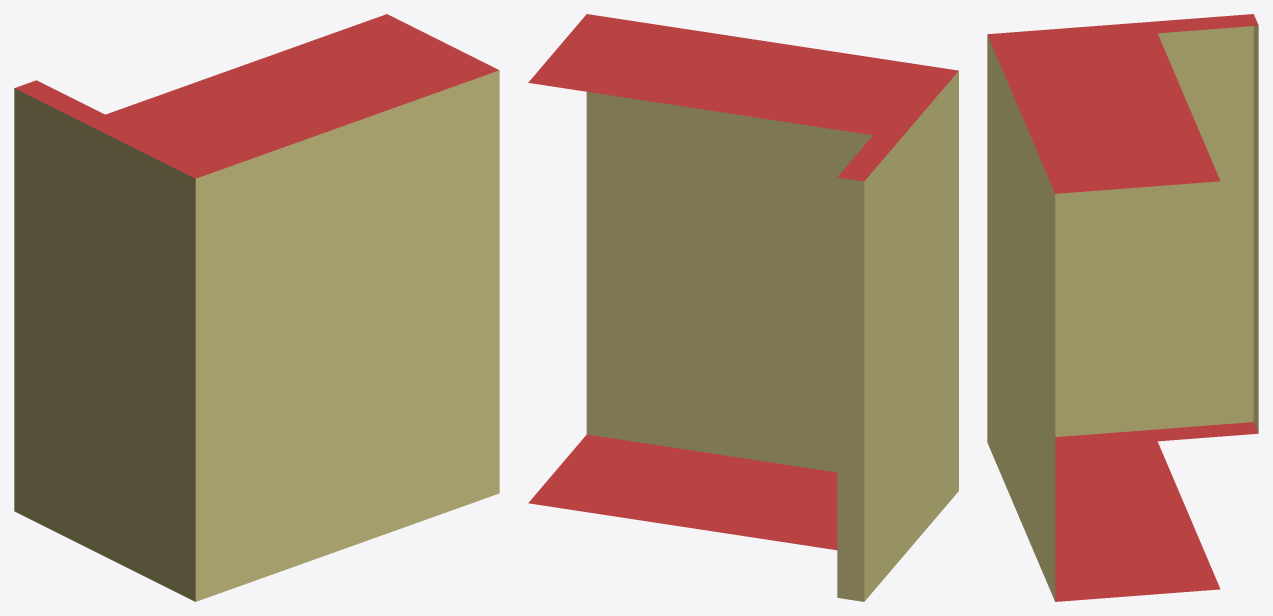
The picture shows the model from 3 angles, left to right: view 1: azimuth 30°, elevation 25°; view 2: azimuth 150°, elevation 25°; view 3: azimuth 270°, elevation 25°; orthographic projection. The views are drawn at different scales.
Size of the model in its own units: 7.62 by 4.86 by 8.06.
